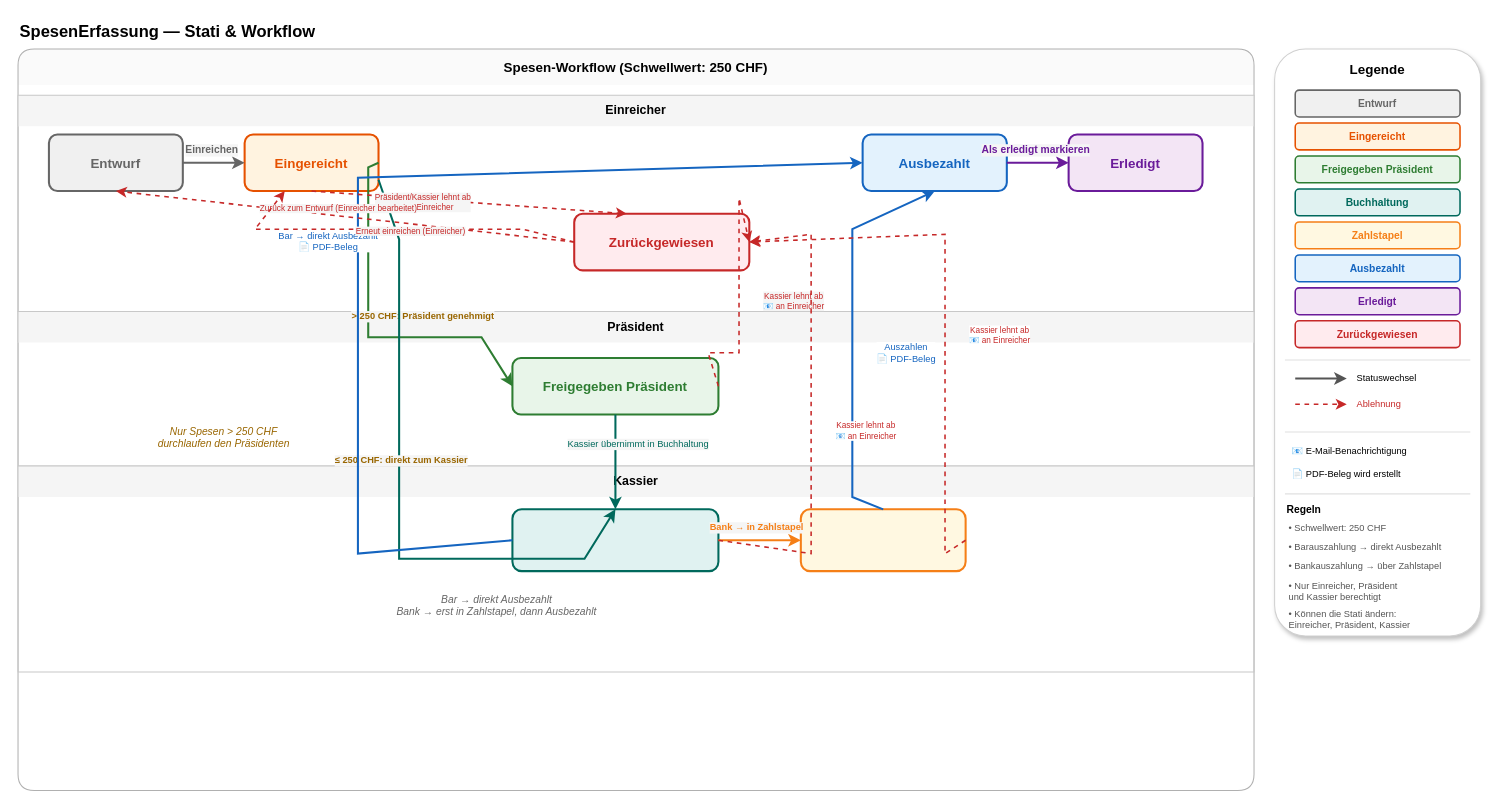
Image size: 1505x809. Some labels were removed from this diagram. The shapes that lost their labels are listed below. From the top down, each one's centre as x and y in pixels, then its label:
the point at 615,540: Buchhaltung (Freigabe Kassier)
the point at 882,540: Zahlstapel (Bankauszahlung)
